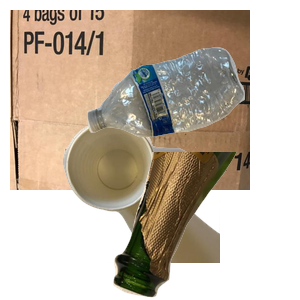cardboard: (10, 10, 250, 190)
glass: (111, 152, 300, 300)
plastic: (85, 45, 300, 175)
trash: (60, 120, 300, 300)
